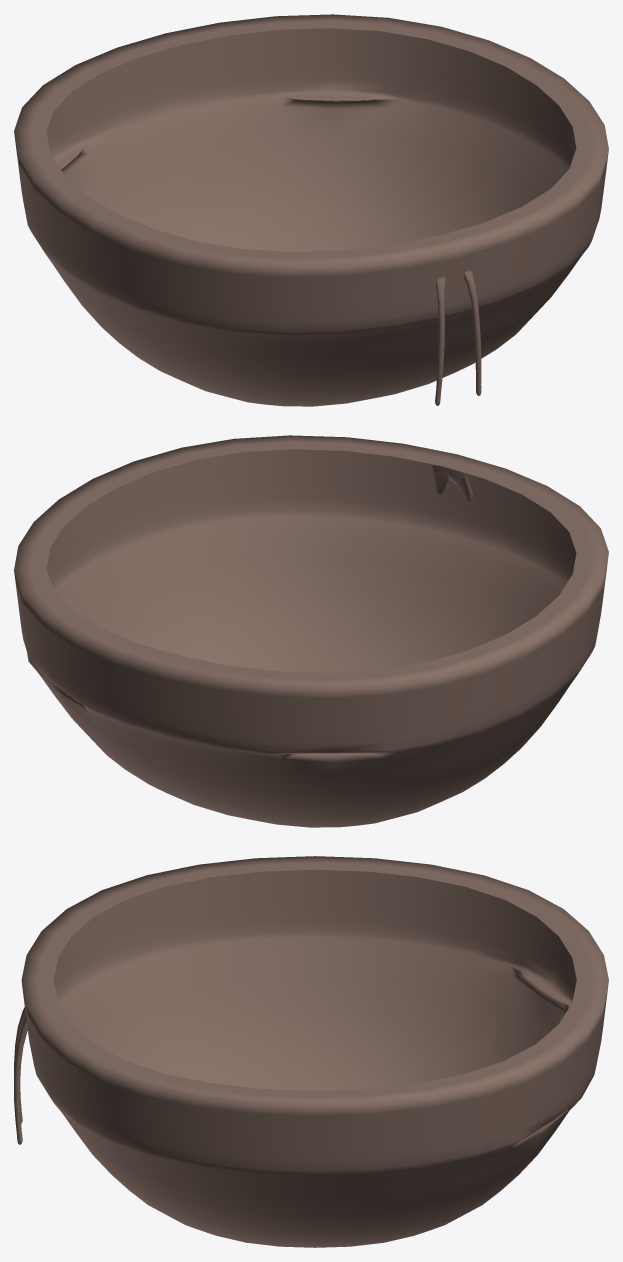
3 views of the same model, one above another, from view 1: azimuth 30°, elevation 25°; view 2: azimuth 150°, elevation 25°; view 3: azimuth 270°, elevation 25° (orthographic).
Visible parts, largest first — view 1: linen_khaki; view 2: linen_khaki; view 3: linen_khaki.
Boxes of the visible parts, x1=… form: linen_khaki: x1=14, y1=14, x2=608, y2=406; linen_khaki: x1=14, y1=435, x2=608, y2=827; linen_khaki: x1=14, y1=856, x2=608, y2=1247.
Bounding box in the file's own units: 1.39 × 0.6103 × 1.41.
